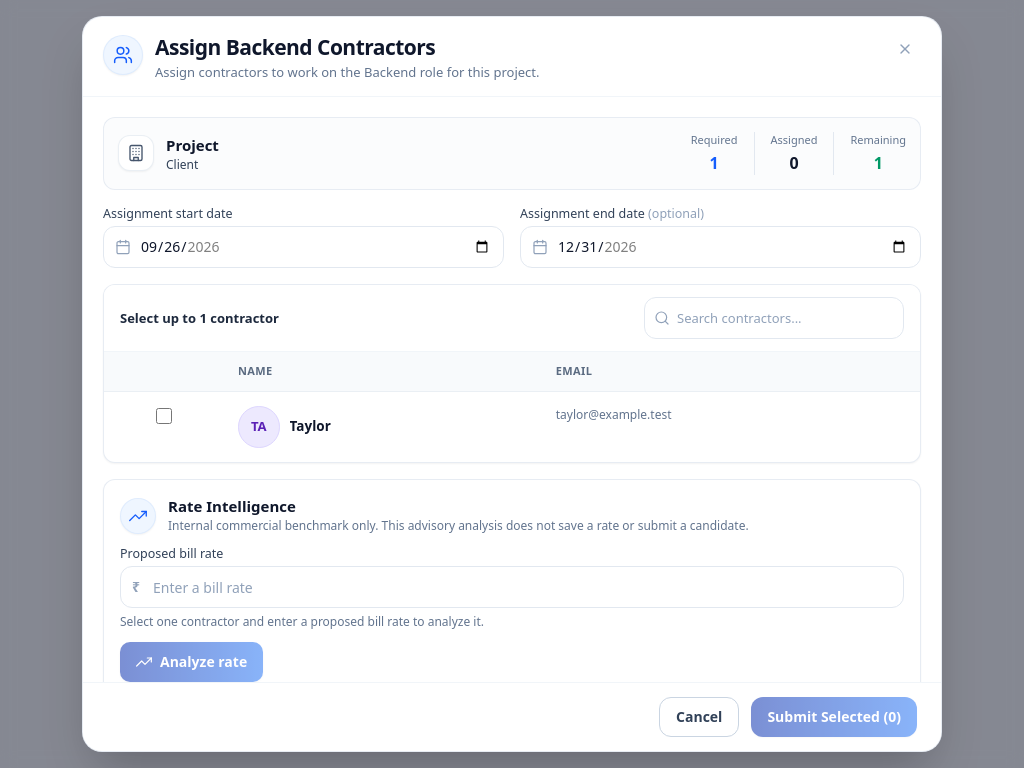
Scenario: clears server values after a proposed-rate edit and only refreshes on explicit re-analysis
This screenshot has width=1024, height=768.
Expected: the heading "Rate Intelligence" is shown, [168,496,296,516]
Click the checkbox. click: (164, 416)
box: [156,408,172,424]
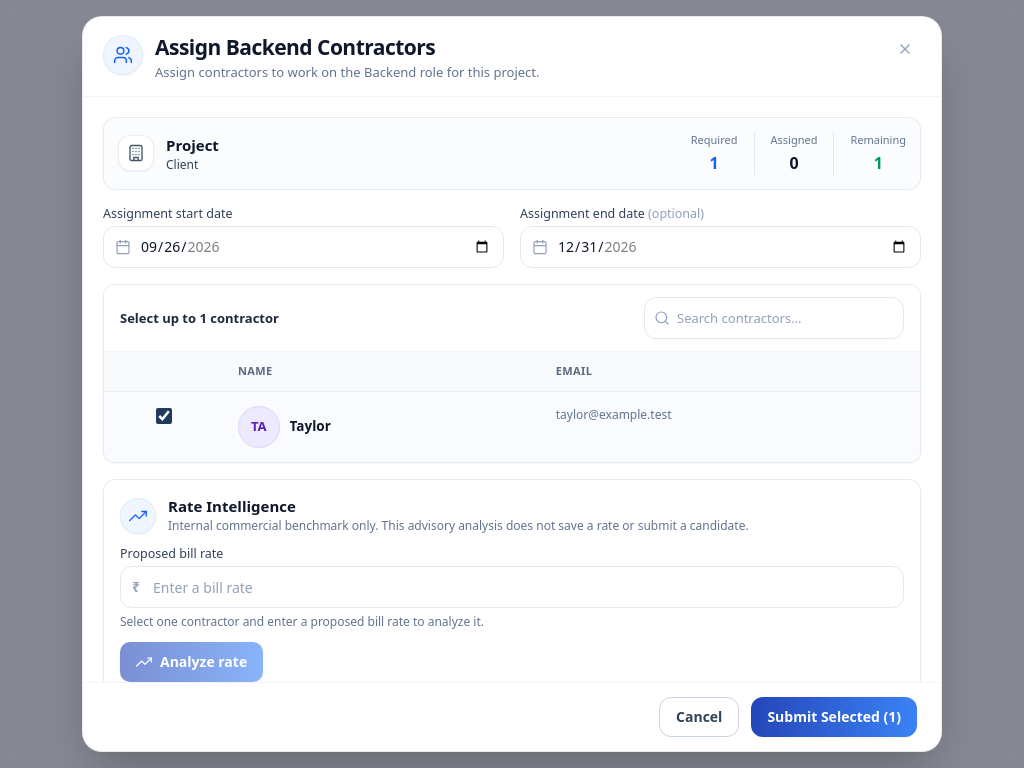
Type "150" into the number field labelled "Proposed bill rate". click: (512, 587)
box: [120,566,904,608]
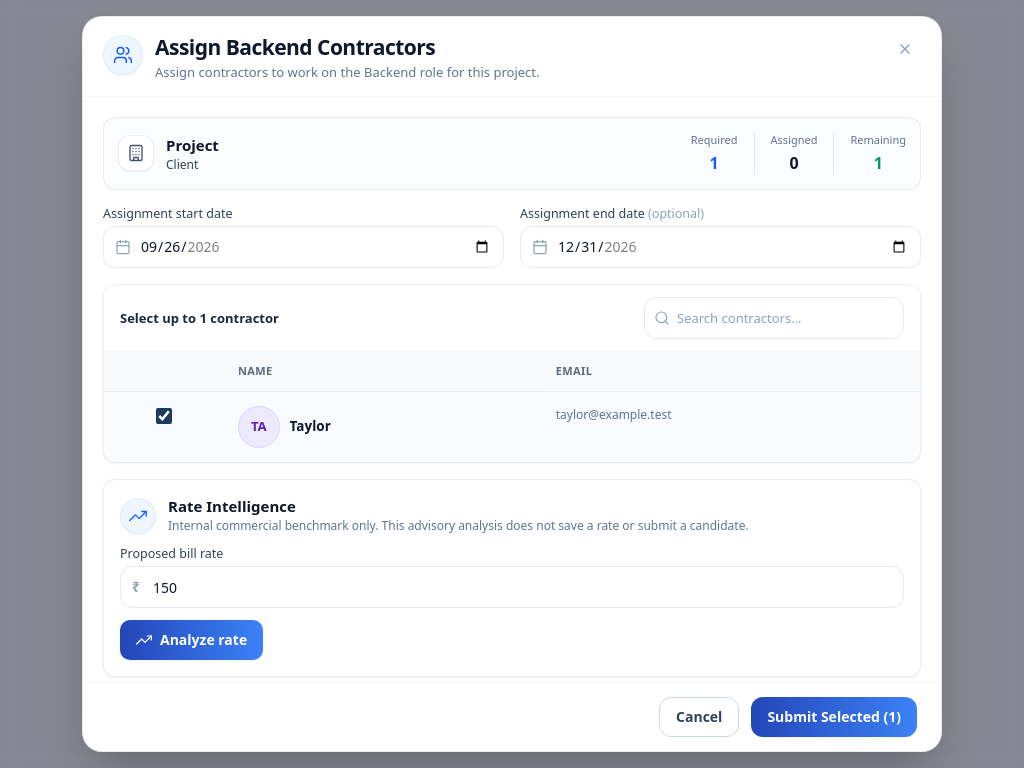
Click the button "Analyze rate". click: (192, 640)
box: [120,620,263,660]
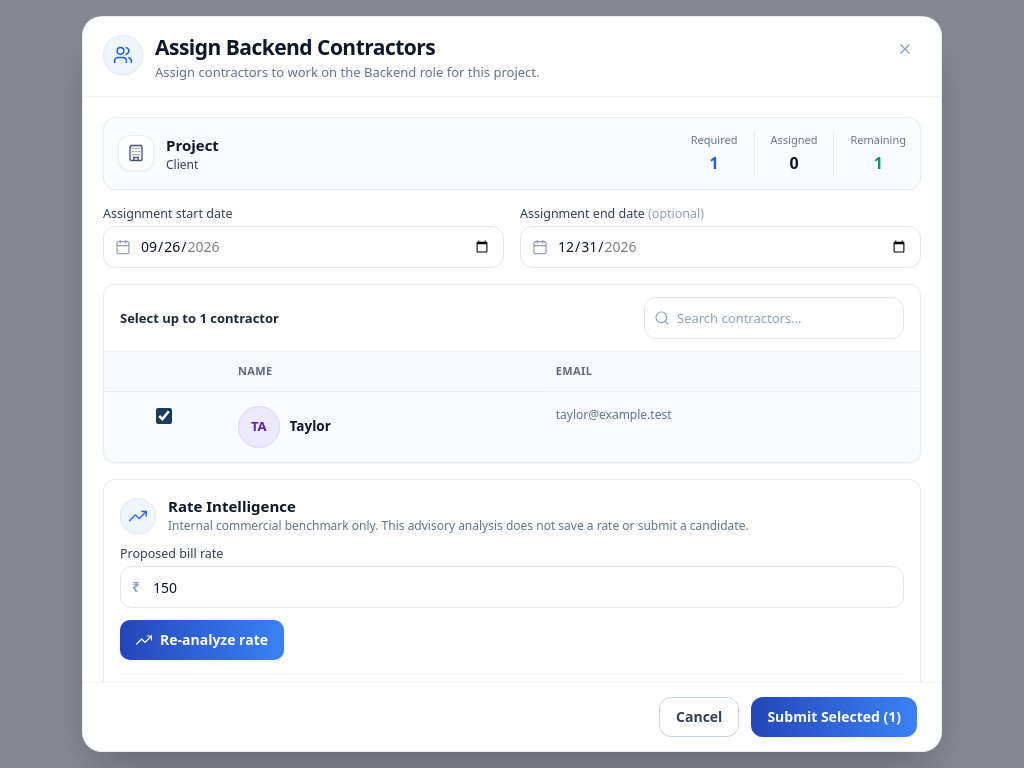
Replace the text in the number field labelled "Proposed bill rate" with "170". click: (512, 587)
box: [120,566,904,608]
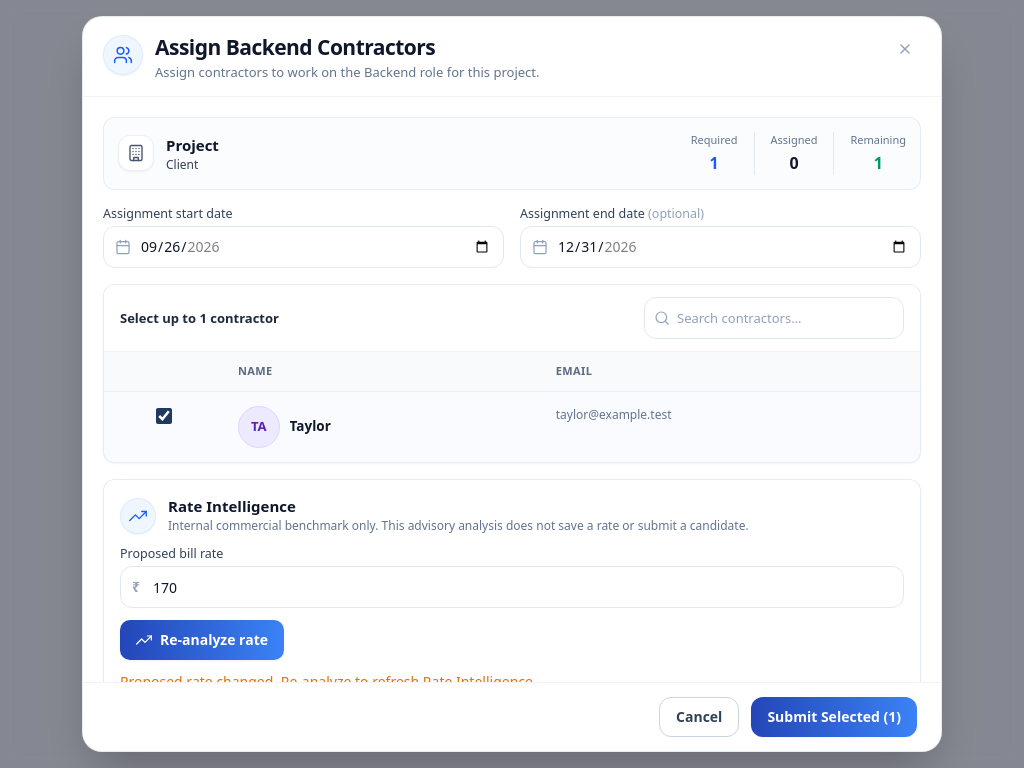
Expected: the text "Margin per hour" is not shown
Expected: the text "Suggested rate" is not shown
Click the button "Re-analyze rate". click: (202, 640)
box: [120,620,284,660]
(page scrolled)
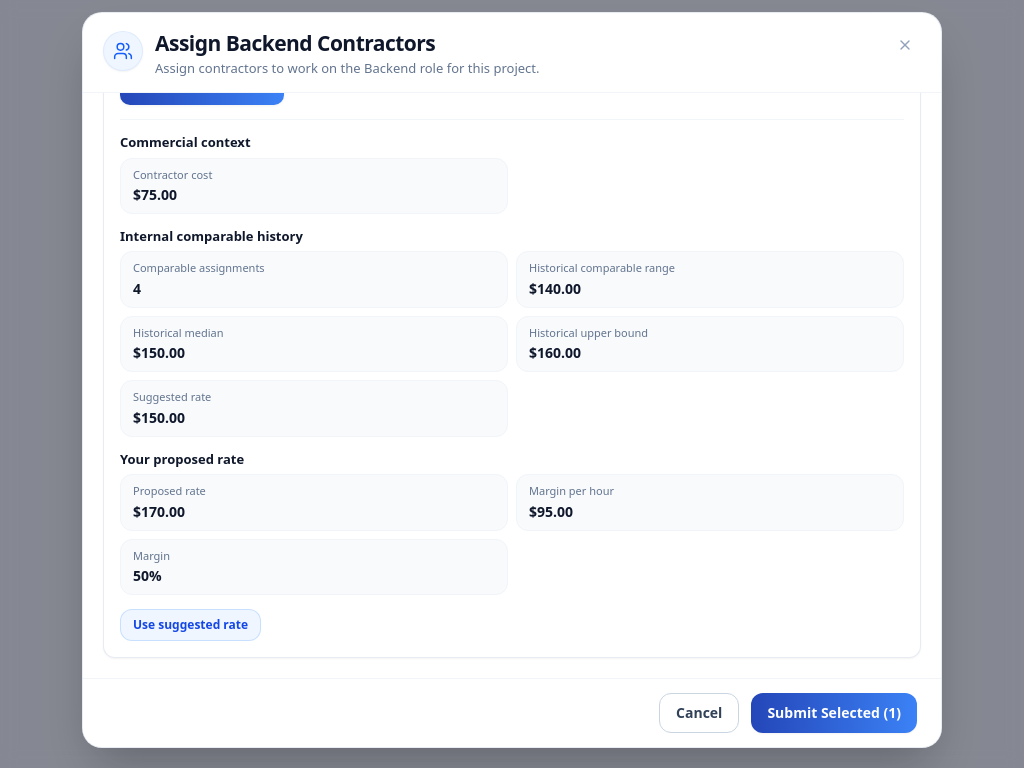
Expected: the text "Margin per hour" is shown, [529,483,614,498]
Expected: the text "$95.00" is shown, [529,502,573,521]
